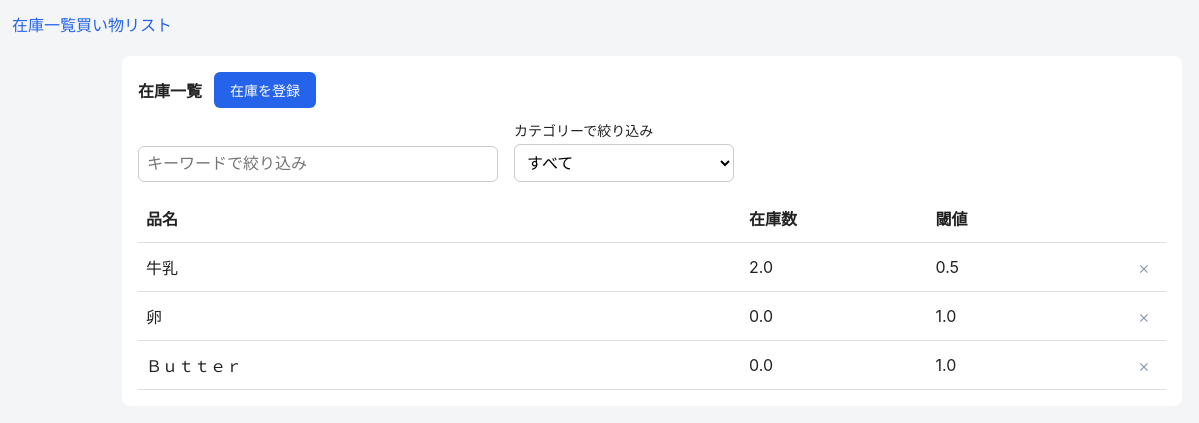
Test: ZaikoPage › 在庫一覧と買い物リストをキーワードで絞り込める (#315)
The image size is (1199, 423).
Expected: the button with aria-label "牛乳の詳細" is shown, [138, 243, 1122, 292]
Type "butter" into the search field named "キーワード検索" at (318, 164), box [138, 146, 498, 182]
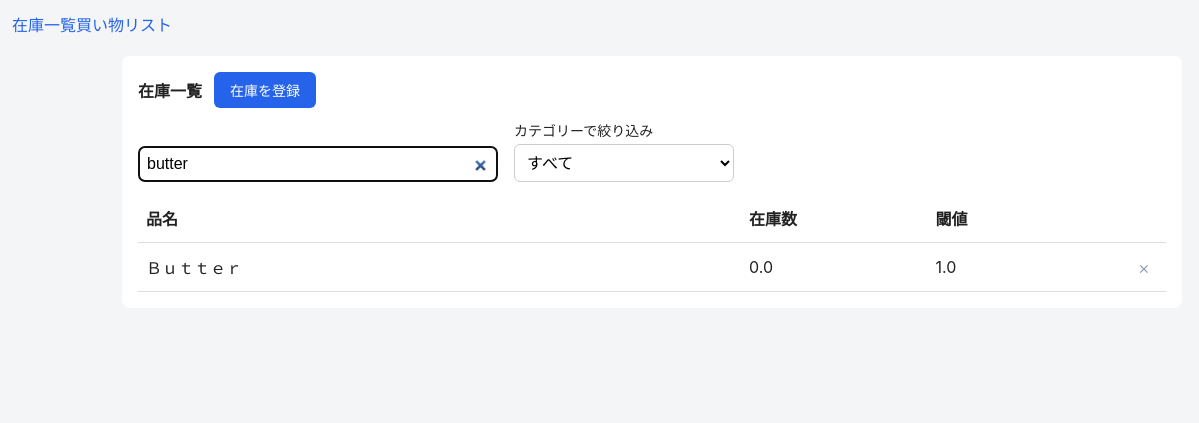
Expected: the button with aria-label "Ｂｕｔｔｅｒの詳細" is shown, [138, 243, 1122, 292]
Result: the button "牛乳の詳細" is gone
Replace the text in the search field named "キーワード検索" with "チーズ" at (318, 164), box [138, 146, 498, 182]
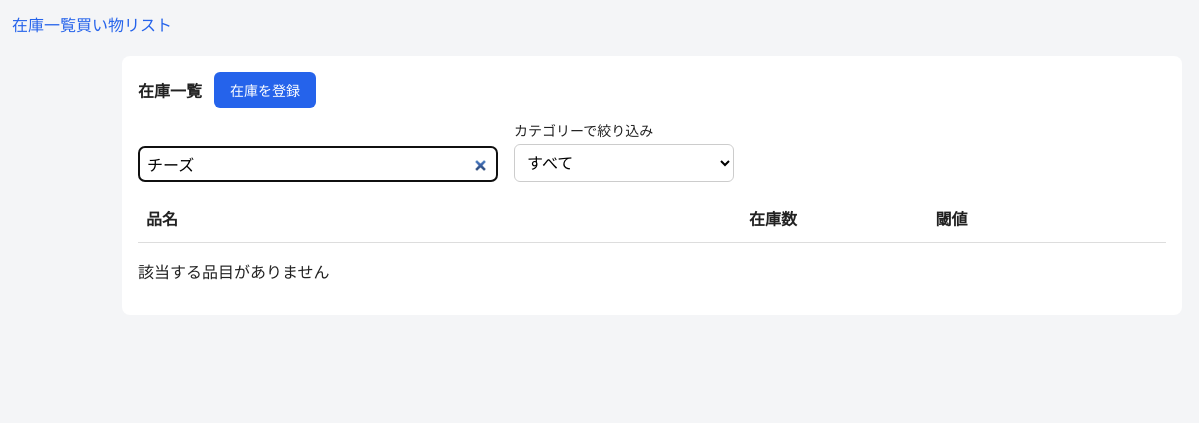
Result: the text "該当する品目がありません" is shown at [138, 262, 330, 282]
Click the link "買い物リスト" at (124, 25), box [76, 15, 172, 35]
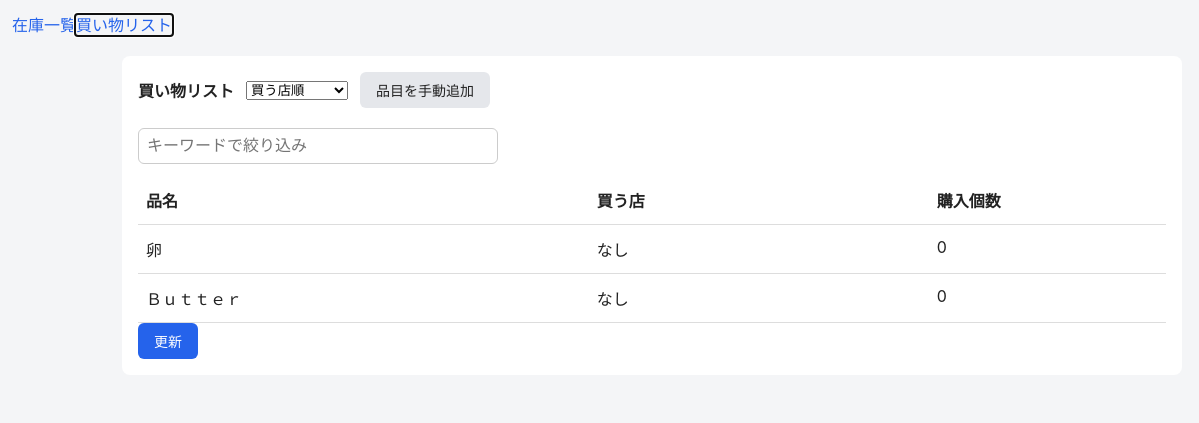
Type "卵" into the search field named "キーワード検索" at (318, 146), box [138, 128, 498, 164]
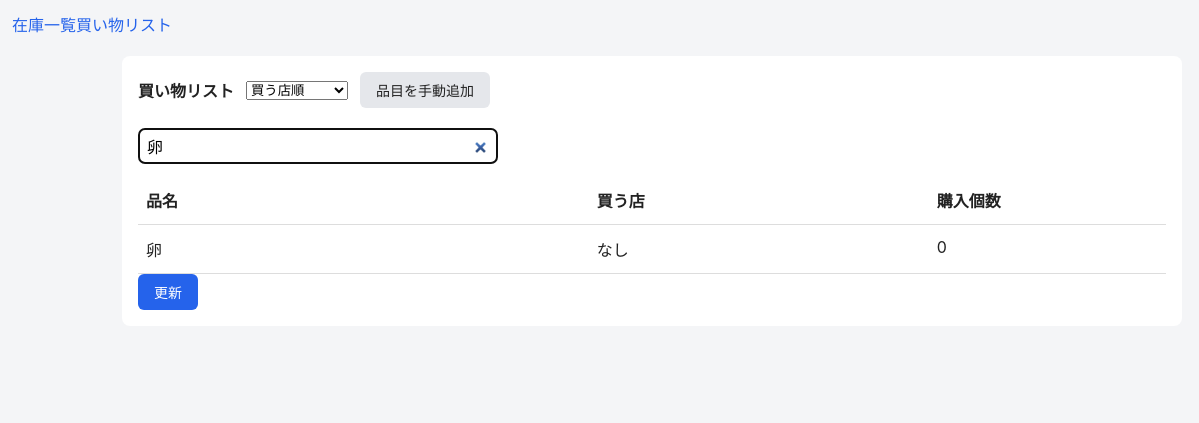
Result: the button with aria-label "卵の詳細" is shown at [138, 225, 1166, 274]
Result: the button "Ｂｕｔｔｅｒの詳細" is gone
Clear the search field named "キーワード検索" at (318, 146), box [138, 128, 498, 164]
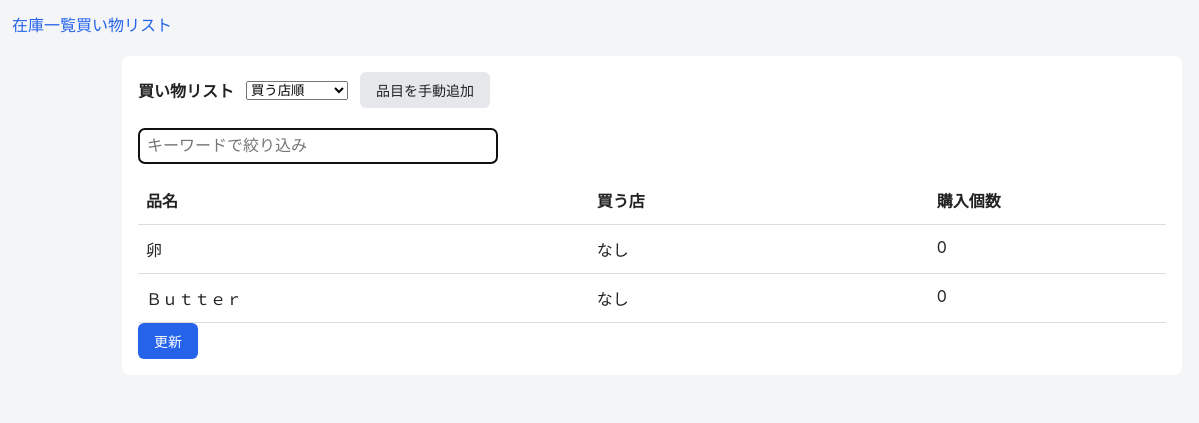
Result: the button with aria-label "Ｂｕｔｔｅｒの詳細" is shown at [138, 274, 1166, 323]
